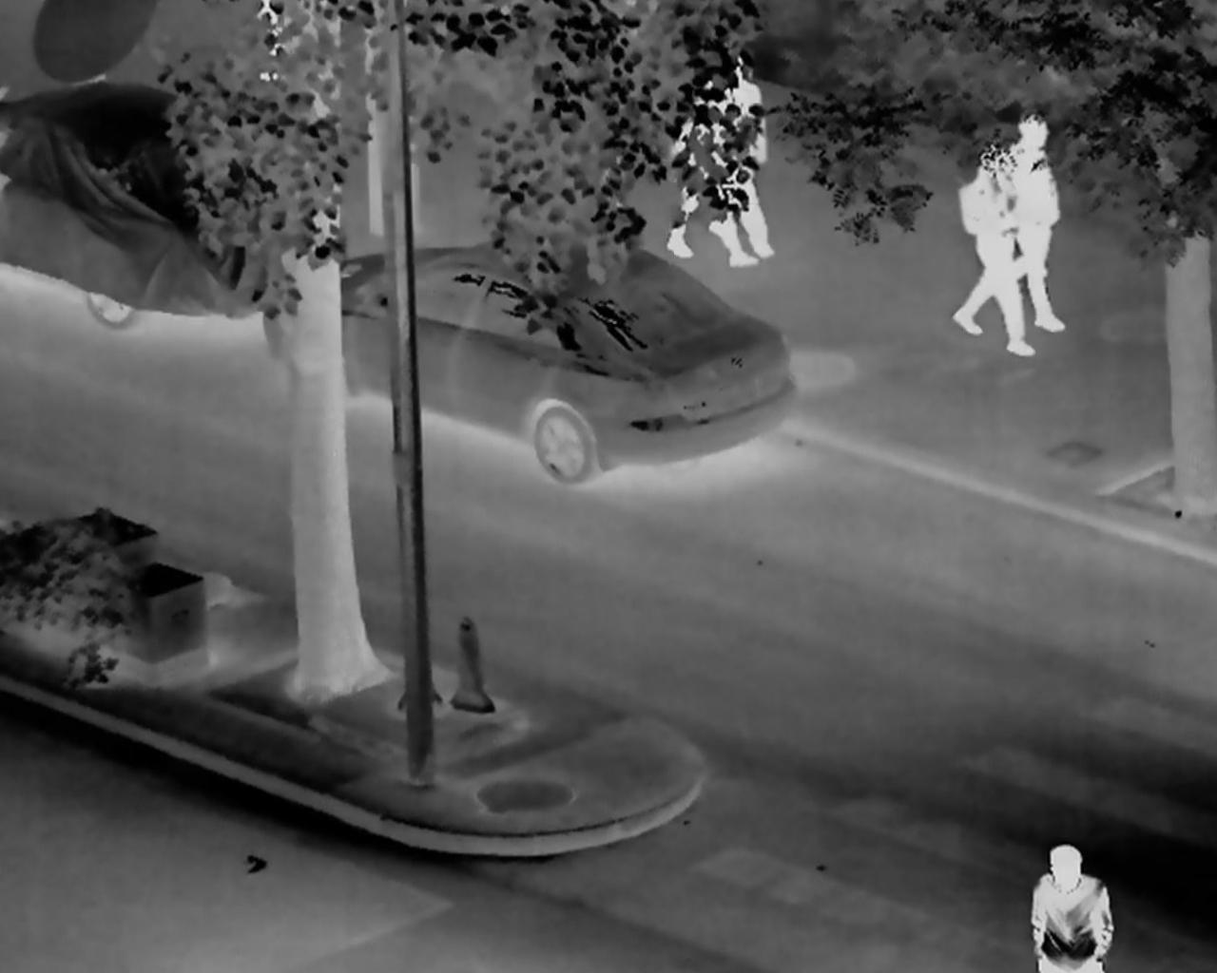person: (686, 52, 777, 258), (666, 70, 757, 265), (956, 145, 1035, 360), (995, 113, 1063, 332), (1030, 843, 1113, 973)
